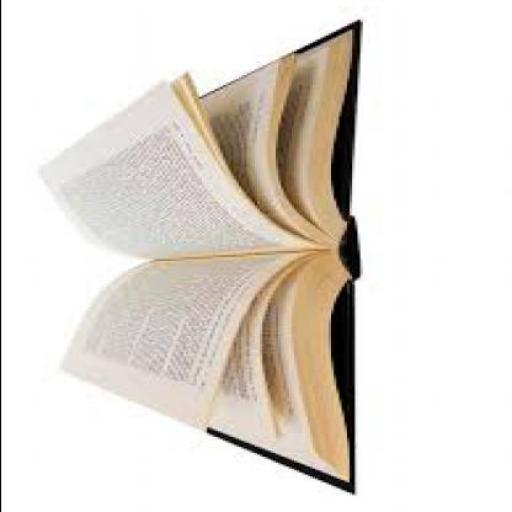paper: (32, 21, 356, 498), (32, 81, 330, 261), (56, 253, 344, 437)
